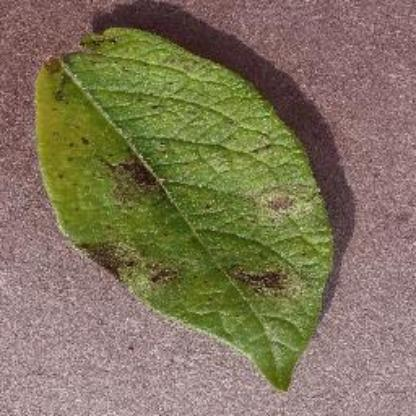Late-Blight: (29, 19, 346, 395)
